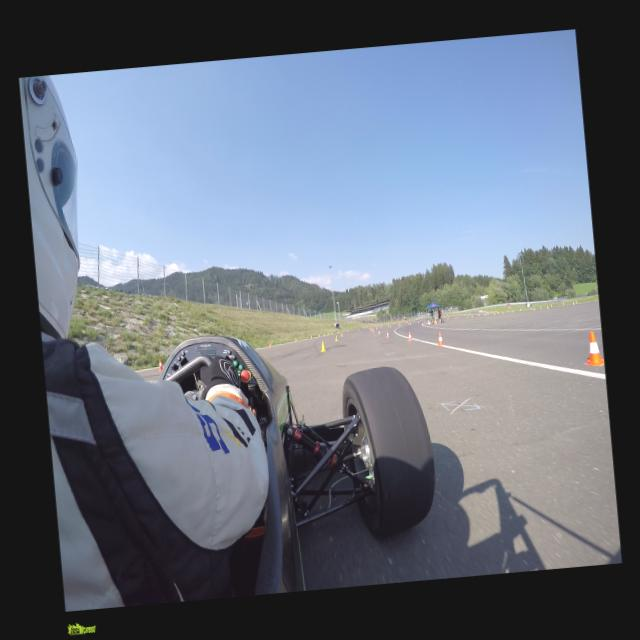orange_cone: (582, 331, 604, 368), (436, 332, 445, 346), (406, 332, 412, 341), (158, 358, 162, 371), (385, 330, 389, 337), (269, 342, 271, 348), (377, 330, 380, 334), (294, 338, 296, 342), (311, 335, 312, 338)
yellow_cone: (320, 341, 326, 352), (334, 334, 337, 340)
